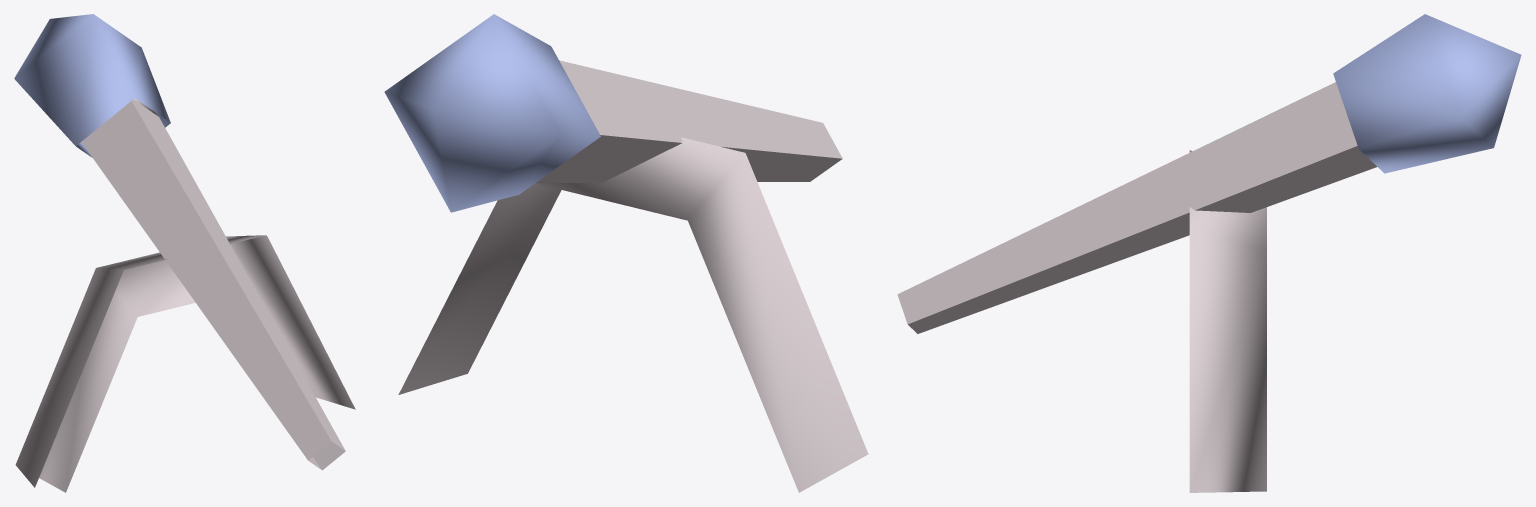
3 views of the same model, side by side, from view 1: azimuth 30°, elevation 25°; view 2: azimuth 150°, elevation 25°; view 3: azimuth 270°, elevation 25° (orthographic). The views are drawn at different scales.
Parts seen in each view (by area): view 1: Object42; view 2: Object42; view 3: Object42.
Part boxes in pixels (x1,y1,x2,y2): Object42: [14, 14, 355, 492]; Object42: [384, 14, 868, 492]; Object42: [897, 14, 1521, 492].
Bounding box in the file's own units: 3580 × 3929 × 5443.
